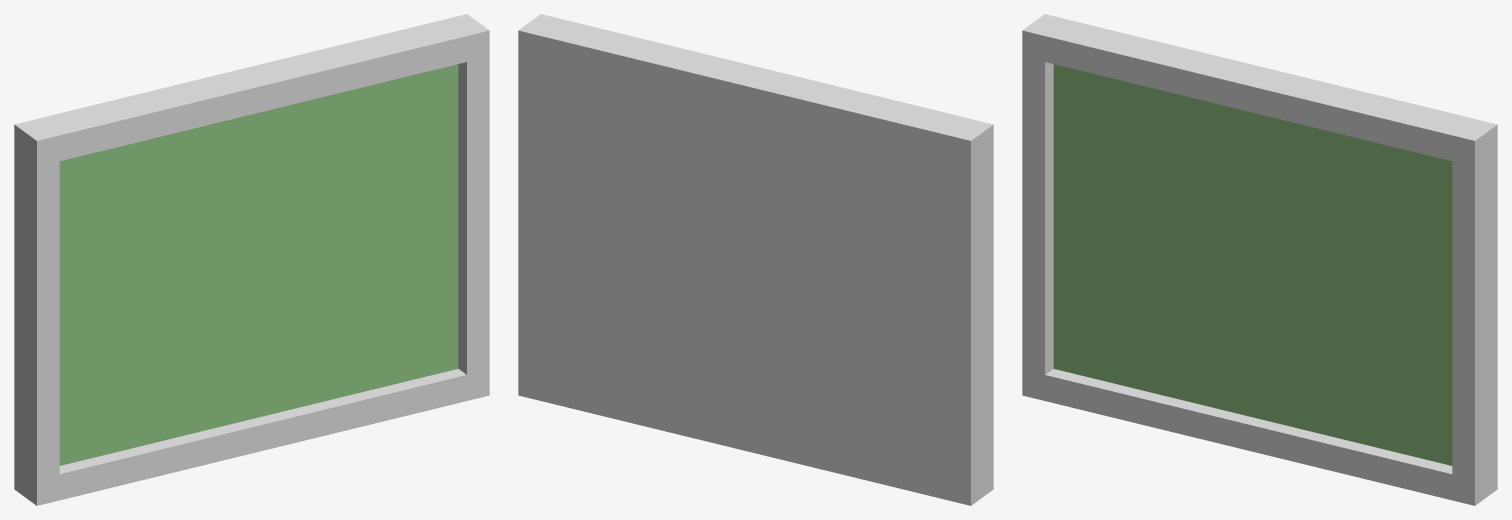
Rendered from Picture_08_dra.glb.
3 views of the same model, side by side, from view 1: azimuth 30°, elevation 25°; view 2: azimuth 150°, elevation 25°; view 3: azimuth 330°, elevation 25° (orthographic).
Parts seen in each view (by area): view 1: Picture_08; view 2: Picture_08; view 3: Picture_08.
Boxes of the visible parts, x1,y1,x2,y2 form: Picture_08: (14,14,489,505); Picture_08: (518,14,993,505); Picture_08: (1022,14,1497,505).
Size of the model in its own units: 0.4987 by 0.3842 by 0.0431.
Materials: 1 (1 with a texture image).
